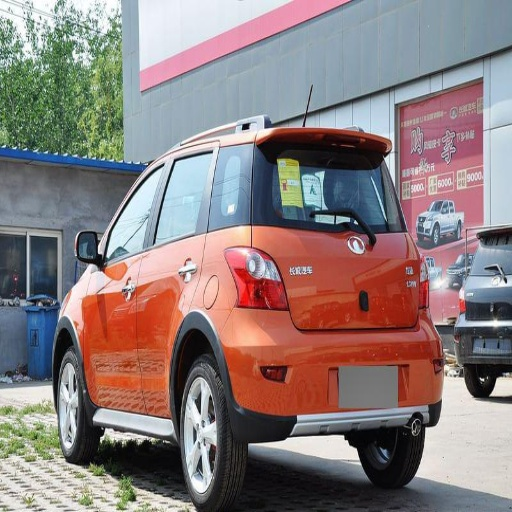back_bumper: (217, 308, 441, 435)
back_glass: (269, 149, 395, 229)
back_left_door: (139, 150, 213, 403)
trunk: (256, 224, 416, 331)
